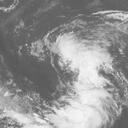cyclone: (31, 30, 122, 123)
